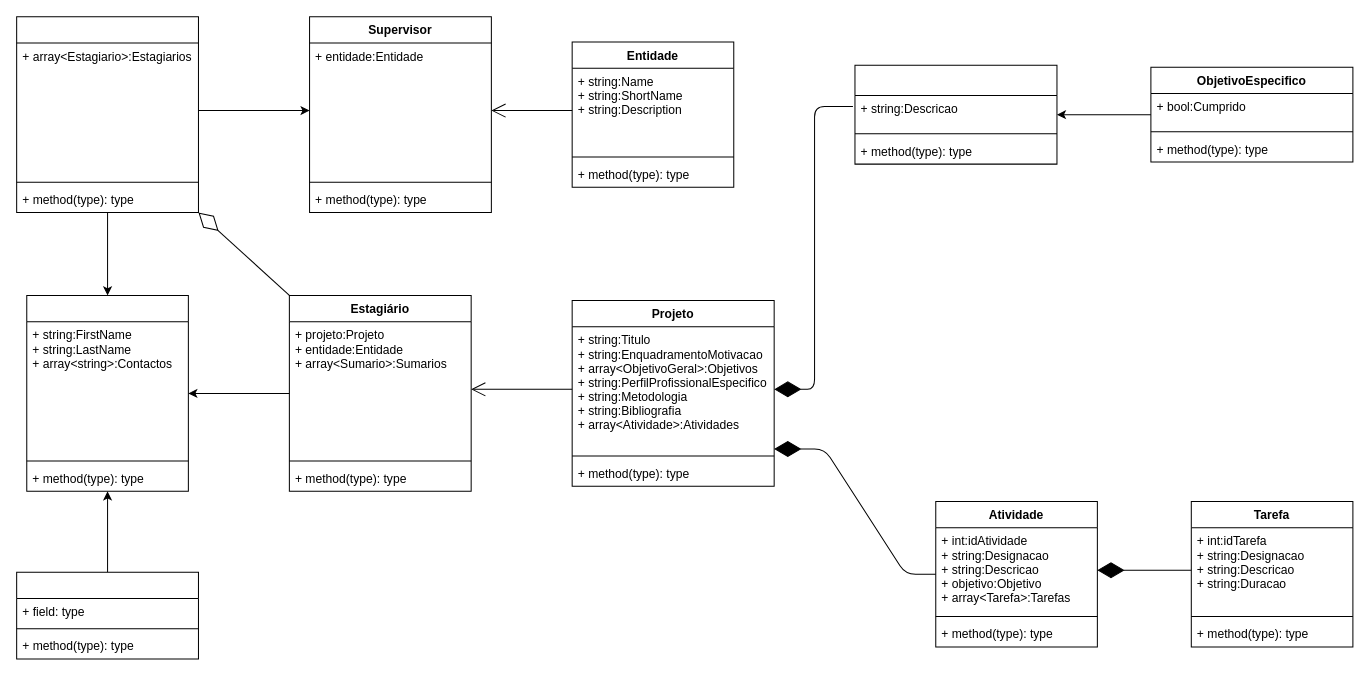
Some shapes in this 1370 by 676 pixel diagram are drawn without their labels. Each missing label, with the box of its shape:
Admin: (16, 571, 198, 659)
ObjetivoGeral: (854, 64, 1057, 164)
Orientador: (16, 16, 198, 213)
Utilizador: (26, 294, 188, 491)
